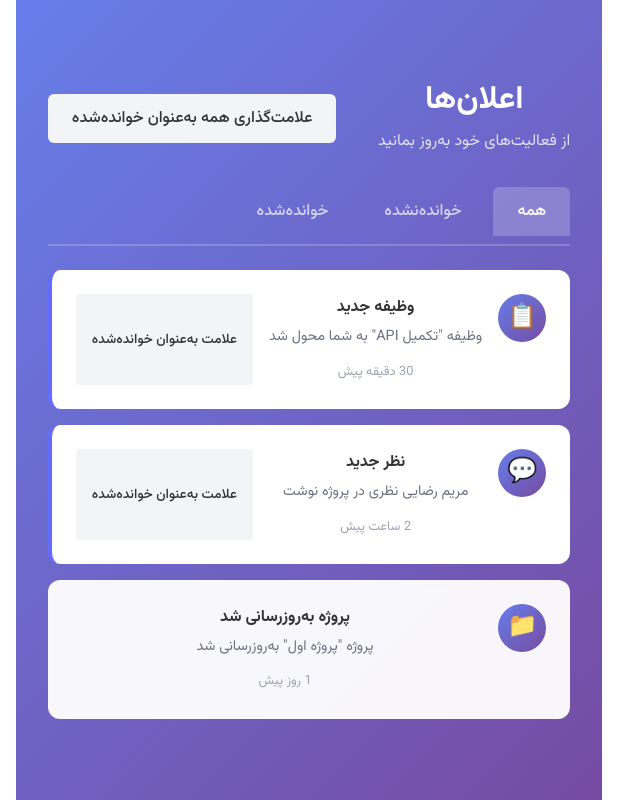
NotificationsList › Filter tabs › filters to read notifications when tab is clicked
Expected: the heading "وظیفه جدید" is shown, [337,295,414,320]
Click the button "خوانده‌شده": {"x": 292, "y": 212} [233,187,352,236]
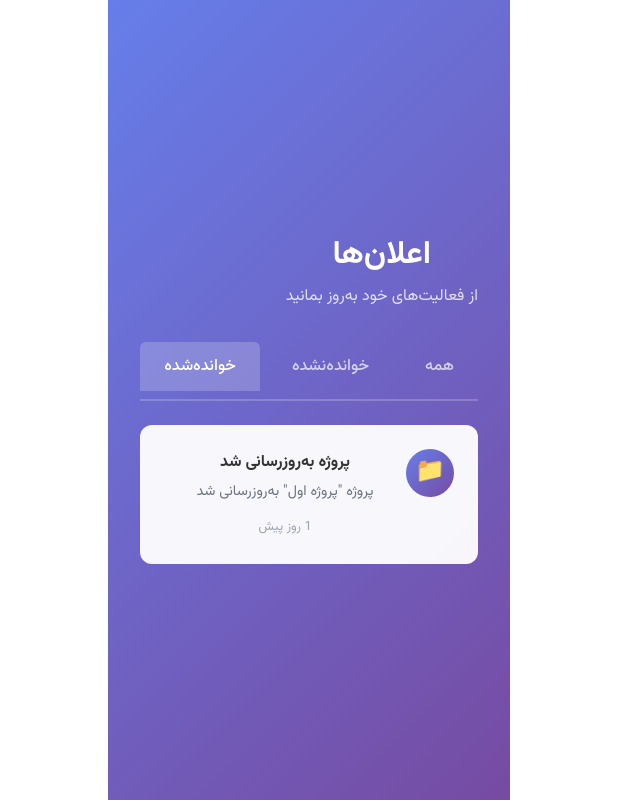
Expected: the heading "پروژه به‌روزرسانی شد" is shown, [220,450,350,475]
Expected: the heading "وظیفه جدید" is gone
